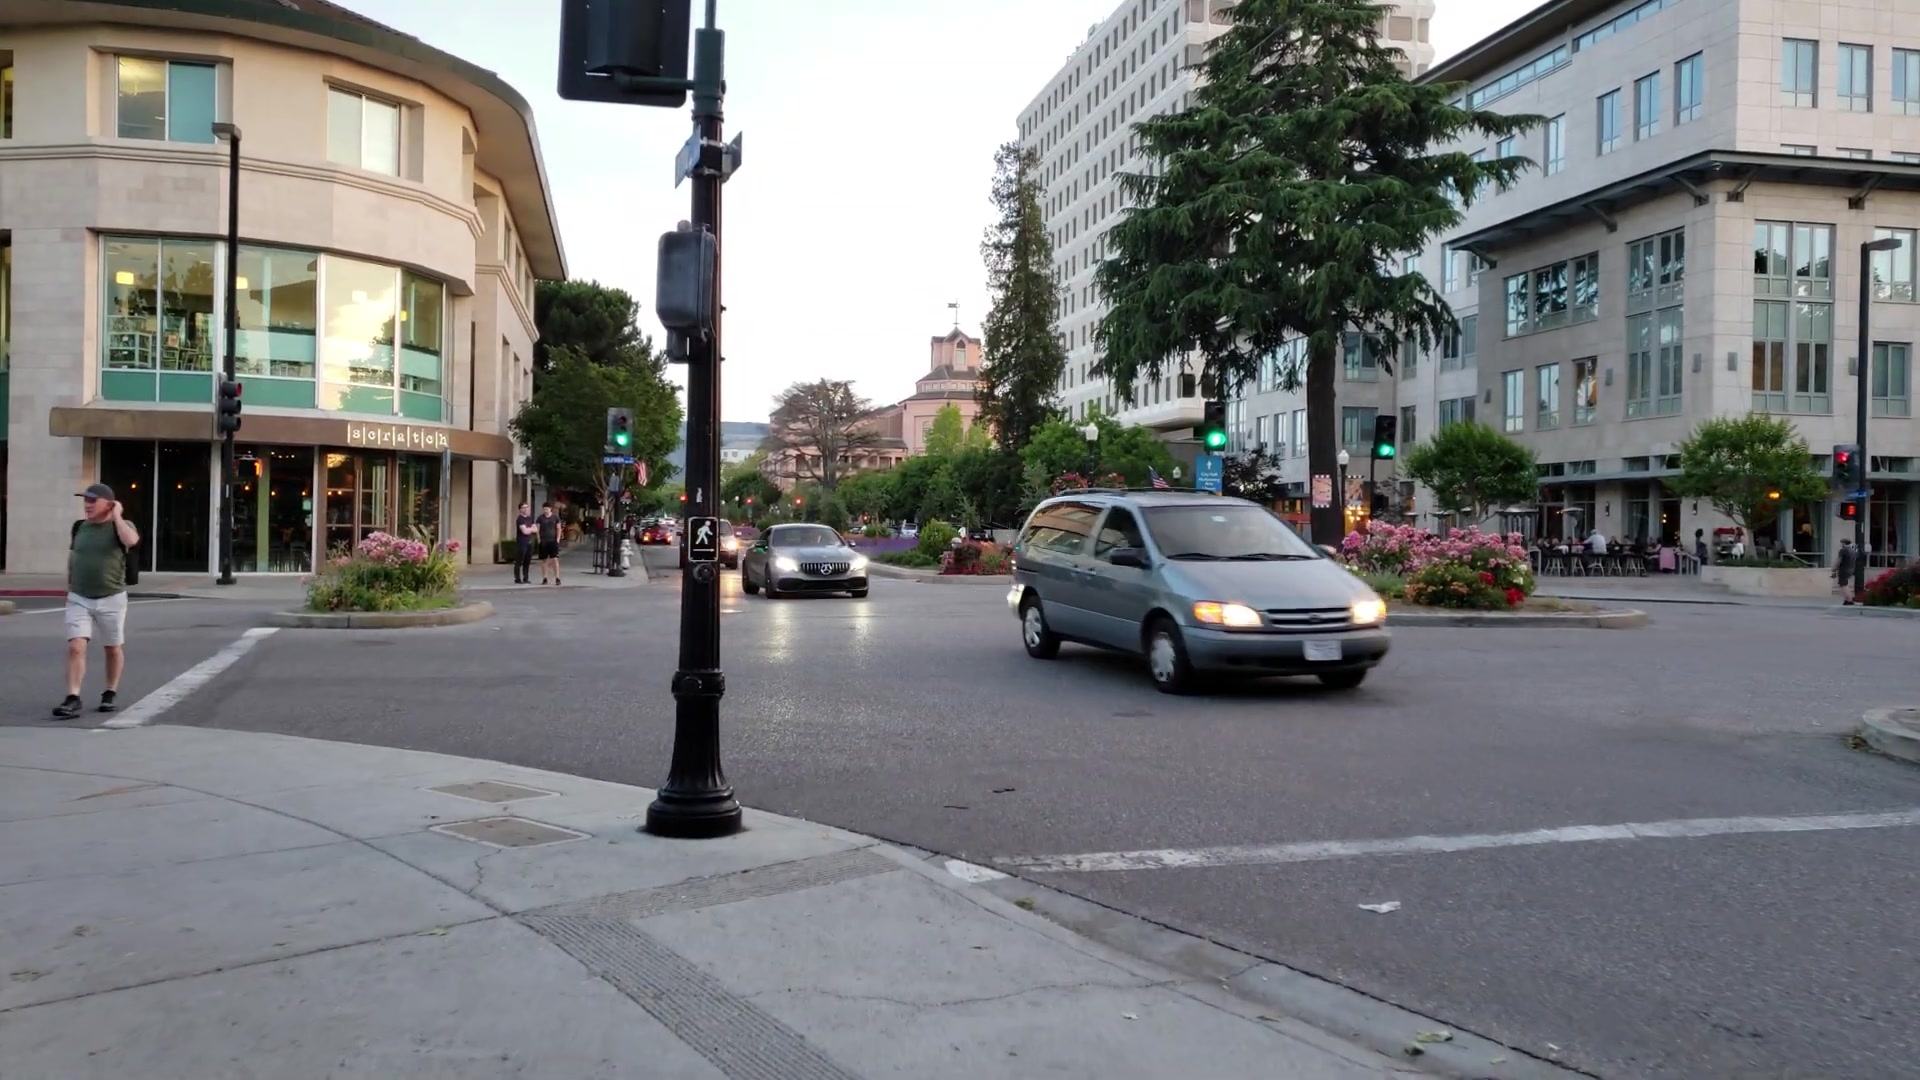vehicle: (1013, 491, 1393, 692), (742, 521, 872, 600)
